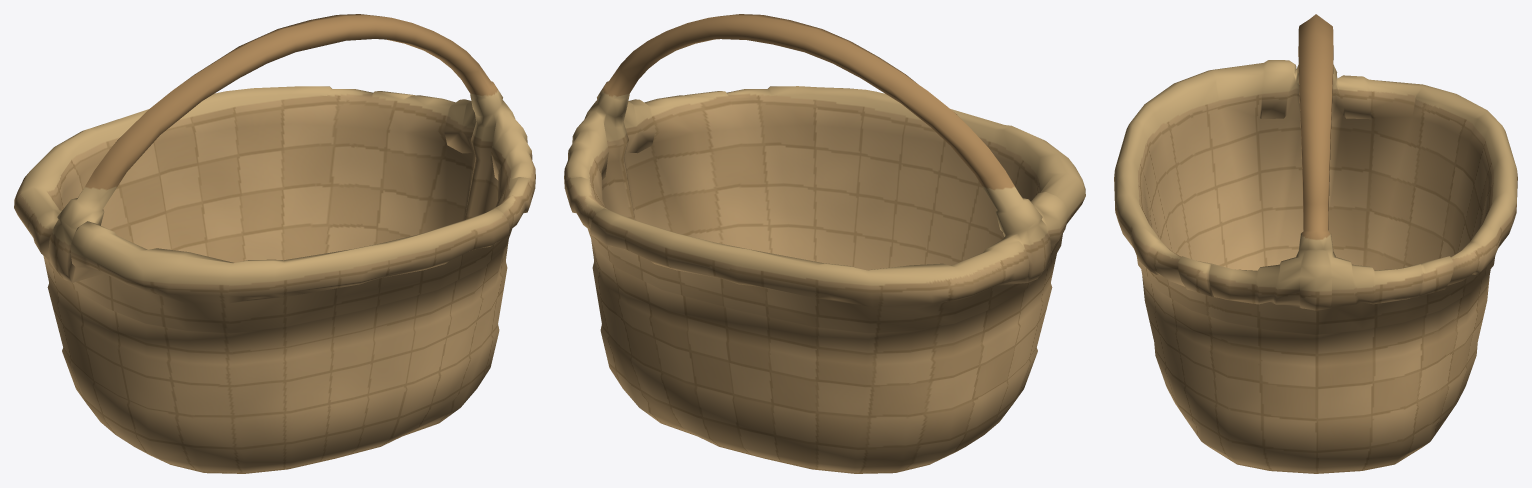
The model's file is gathering_basket.fbx.
The picture shows the model from 3 angles, left to right: view 1: azimuth 30°, elevation 25°; view 2: azimuth 150°, elevation 25°; view 3: azimuth 270°, elevation 25°; orthographic projection. The views are drawn at different scales.
Parts seen in each view (by area): view 1: gathering_basket; view 2: gathering_basket; view 3: gathering_basket.
Boxes of the visible parts, bbox=[...] form: gathering_basket: bbox=[14, 14, 535, 473]; gathering_basket: bbox=[564, 14, 1085, 473]; gathering_basket: bbox=[1114, 14, 1517, 473].
Size of the model in its own units: 0.38 by 0.3 by 0.3.
1 material, 1 textured.
